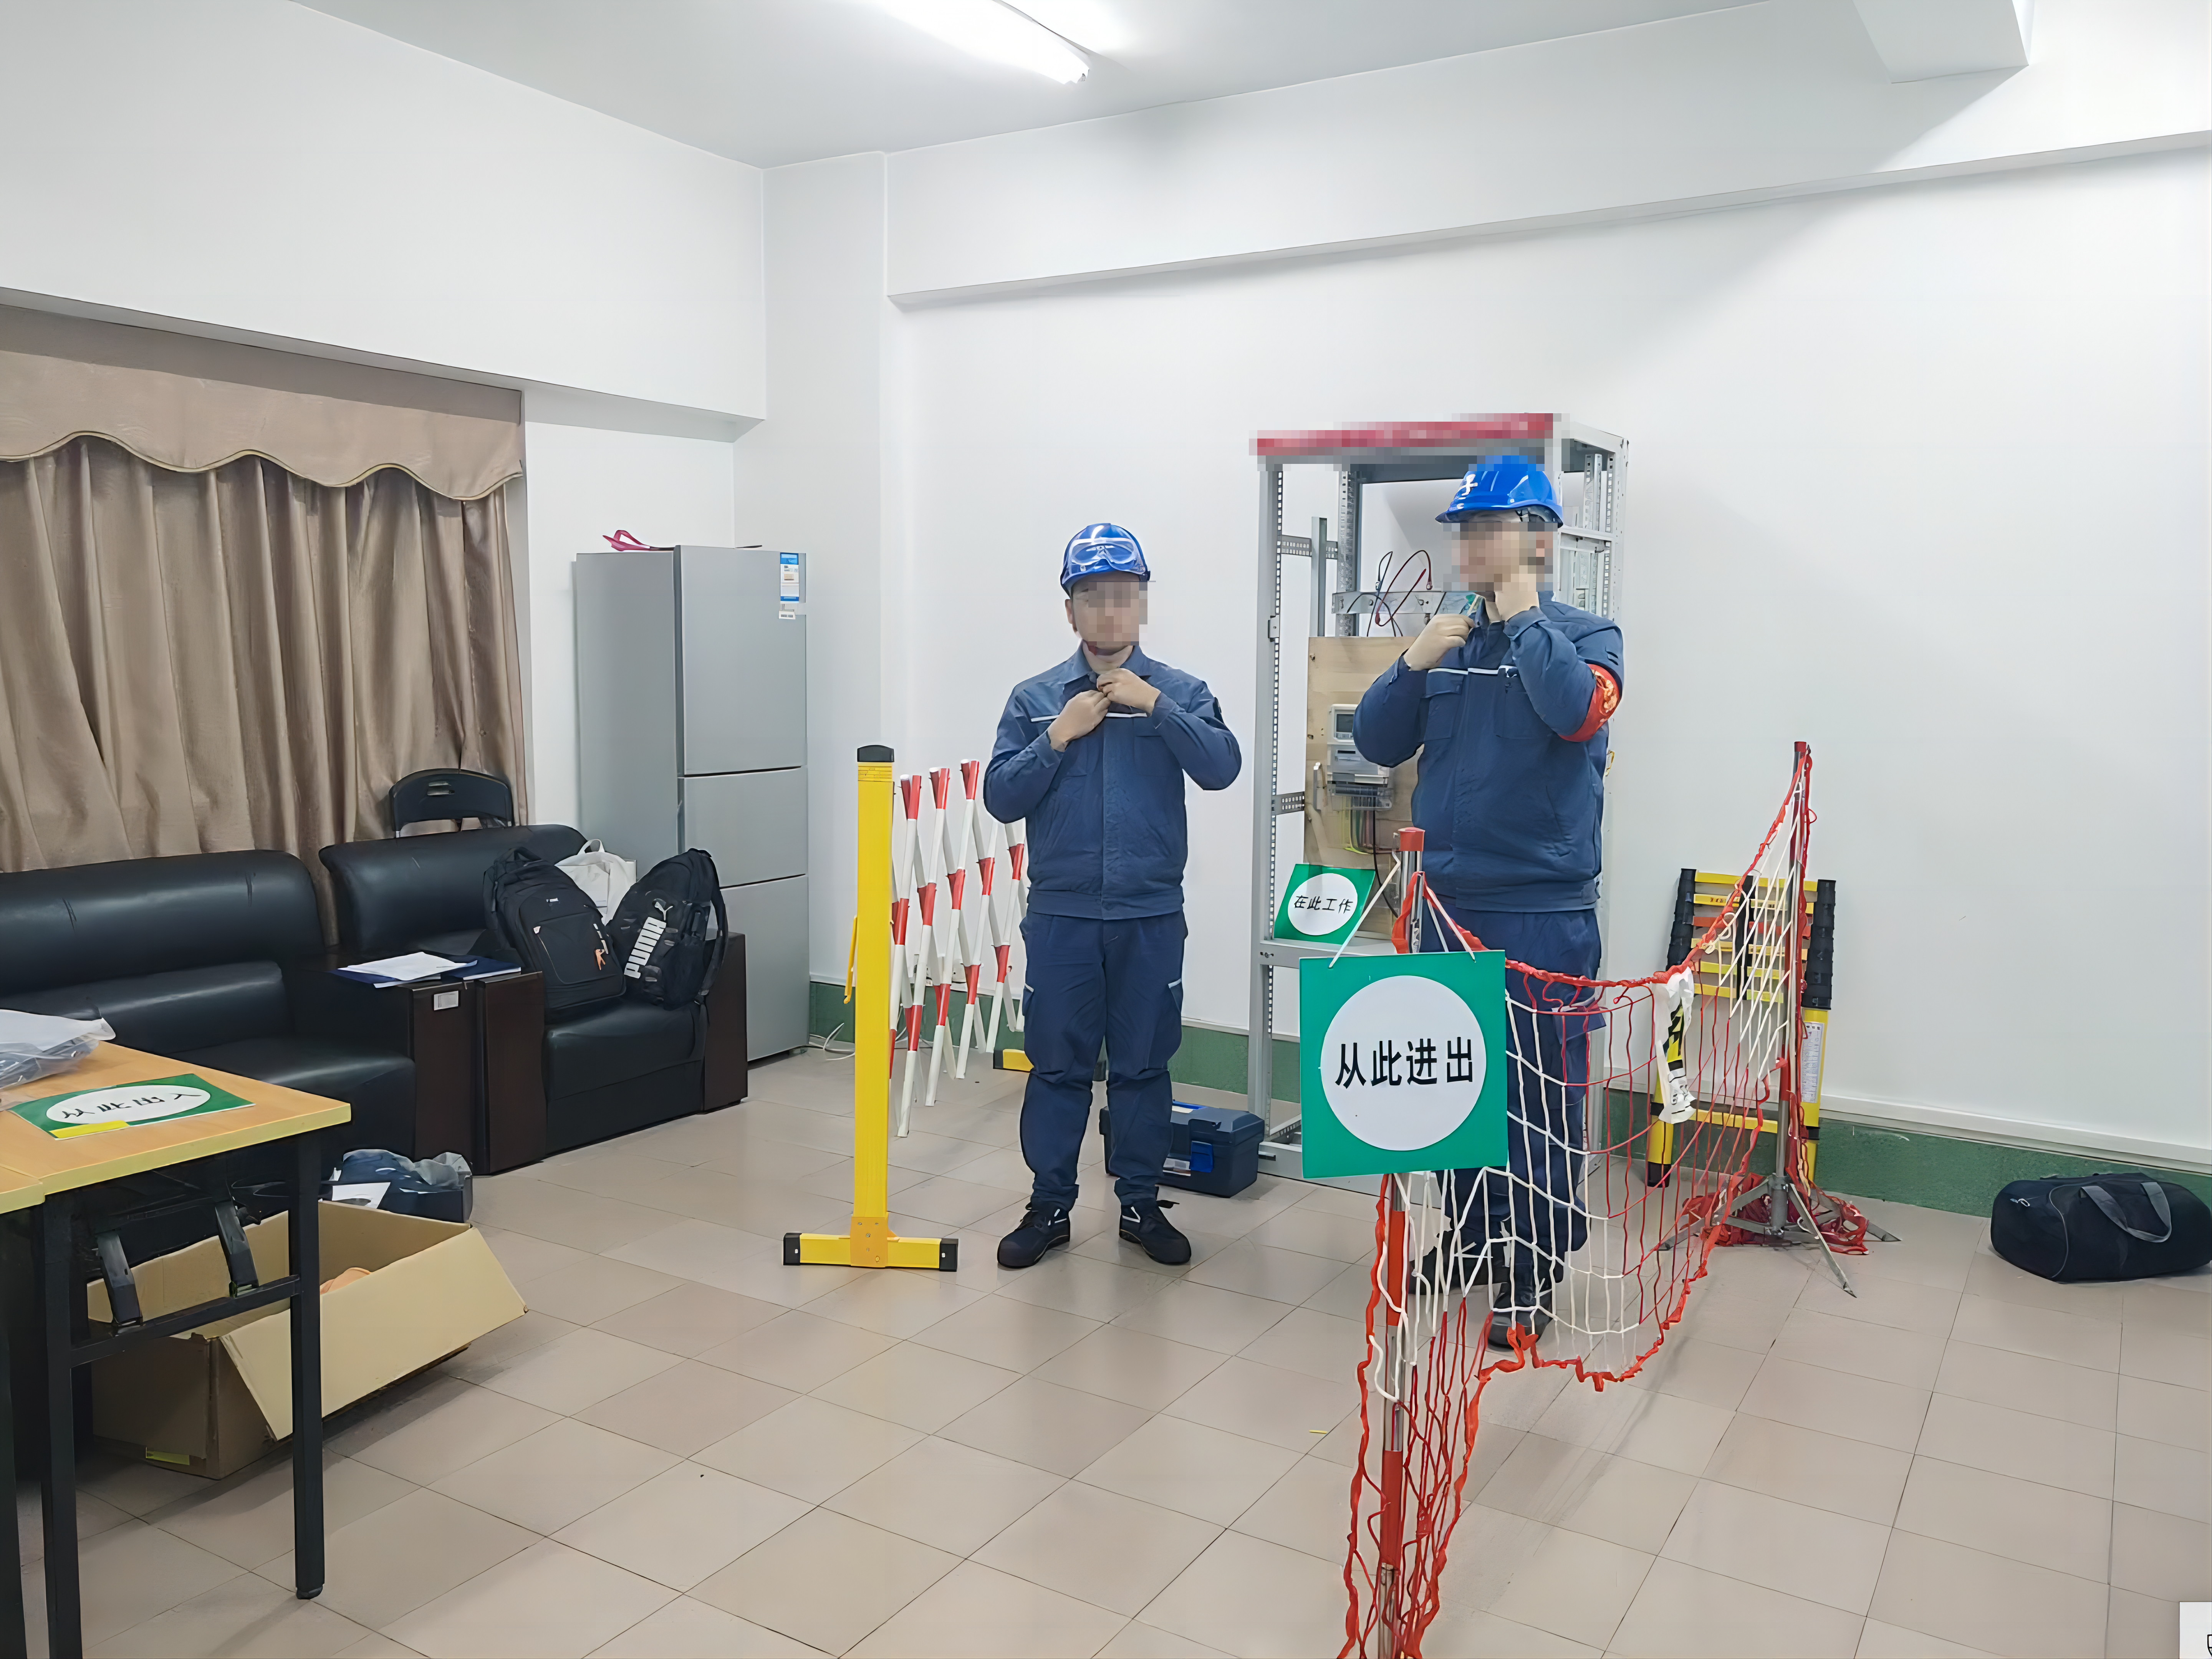badge: (1566, 647, 1628, 749)
downsuit: (1404, 905, 1622, 1248), (1011, 934, 1194, 1211)
halt: (1442, 451, 1568, 599), (1054, 519, 1159, 654)
hand: (1401, 608, 1470, 673), (1046, 682, 1115, 745), (1098, 667, 1164, 713), (1492, 569, 1542, 625)
inear: (1499, 503, 1566, 579)
intosign: (1286, 937, 1531, 1191)
person: (1350, 450, 1624, 1218), (975, 519, 1248, 1269)
upsuit: (1355, 586, 1625, 923), (983, 643, 1243, 915)
worksign: (1268, 848, 1376, 950)
